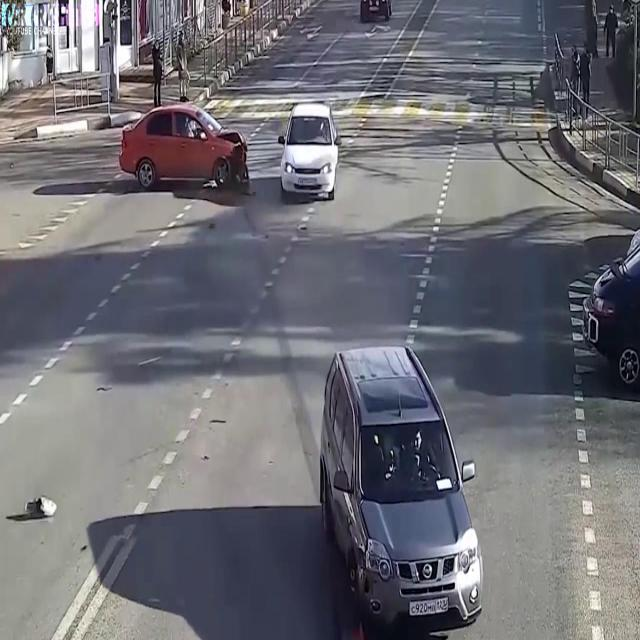accident: (283, 320, 520, 640), (107, 95, 266, 208)
